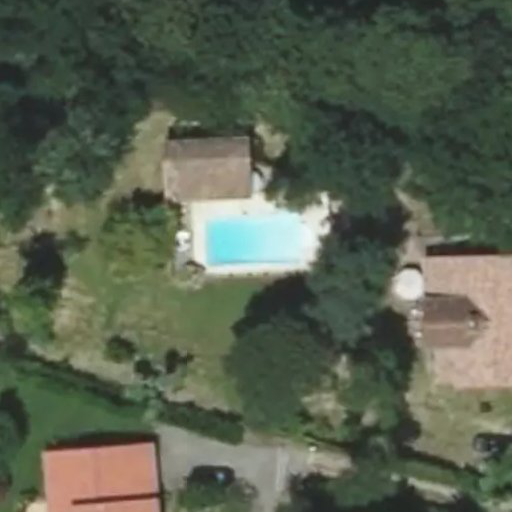pool: (202, 223, 311, 259)
